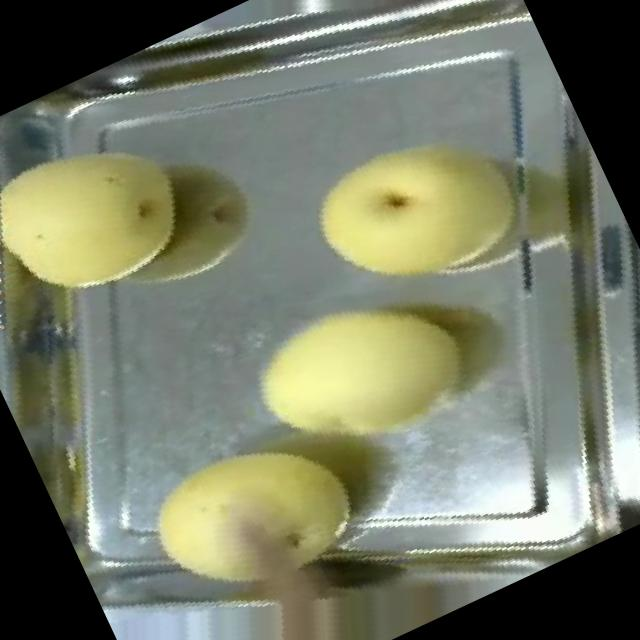Fruit: (264, 65, 582, 369), (206, 233, 522, 525), (104, 383, 408, 640), (0, 82, 232, 348)
